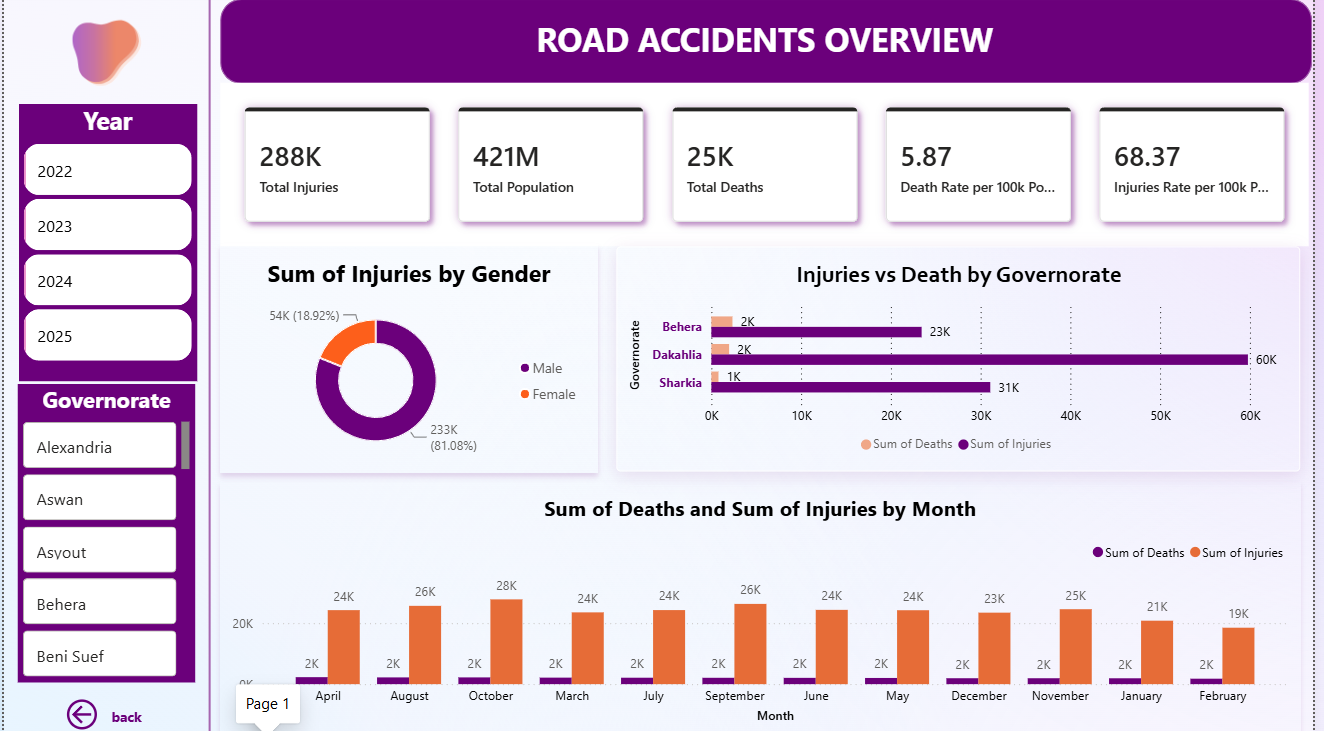

The dashboard page shown, as its layout file describes it:
{"tool":"powerbi","page":{"name":"Page 1","canvas":[1280,720],"ordinal":1},"visuals":[{"type":"shape","box":[211.6,0,1068,83],"z":0},{"type":"textbox","box":[454.9,12.2,578.4,299.6],"z":1000},{"type":"shape","box":[51.4,0,299.6,720.2],"z":2000},{"type":"image","box":[0,0,212,115],"z":3000},{"type":"actionButton","box":[50.1,679.9,100,40],"z":4000},{"type":"actionButton","box":[0,0,201.8,102.7],"z":5000},{"type":"cardVisual","fields":{"Data":["Sum(T_Fact_RoadUser.Injuries)","Sum(T_Fact_Population.Population)","Sum(T_Fact_RoadUser.Deaths)","select1","select"]},"box":[213.1,76.3,1067.6,160.5],"z":6000},{"type":"advancedSlicerVisual","fields":{"Values":["T_Dim_Year.Year"]},"box":[13.5,88,174,271],"z":7000},{"type":"advancedSlicerVisual","fields":{"Values":["T_Dim_Governorate.Governorate"]},"box":[13.5,369.3,173.6,292.3],"z":8000},{"type":"clusteredBarChart","title":"Injuries vs Death by Governorate","fields":{"Category":["T_Dim_Governorate.Governorate"],"Y":["Sum(T_Fact_Monthly.Deaths)","Sum(T_Fact_Monthly.Injuries)"]},"box":[599.2,242.1,668.9,220.1],"z":9000},{"type":"donutChart","fields":{"Category":["T_Dim_Gender.Gender"],"Y":["Sum(T_Fact_Gender.Injuries)"]},"box":[211.6,239.7,369.3,223.8],"z":10000},{"type":"clusteredColumnChart","fields":{"Category":["T_Dim_Month.Month"],"Y":["Sum(T_Fact_Monthly.Deaths)","Sum(T_Fact_Monthly.Injuries)"]},"box":[211.6,472,1056.5,248.2],"z":11000},{"type":"textbox","box":[100.3,688.2,68.5,31.8],"z":12000}]}

Visuals, with their boxes in screenshot pixels (x1, y1, x2, y2), scaled from the page's 1280x720 canvas onto the 1324x731 screenshot:
shape: l=219, t=0, r=1323, b=84
textbox: l=471, t=12, r=1069, b=317
shape: l=53, t=0, r=363, b=730
image: l=0, t=0, r=219, b=117
actionButton: l=52, t=690, r=155, b=730
actionButton: l=0, t=0, r=209, b=104
cardVisual - Sum(T_Fact_RoadUser.Injuries) x Sum(T_Fact_Population.Population): l=220, t=77, r=1323, b=240
advancedSlicerVisual - T_Dim_Year.Year: l=14, t=89, r=194, b=364
advancedSlicerVisual - T_Dim_Governorate.Governorate: l=14, t=375, r=194, b=672
"Injuries vs Death by Governorate" clusteredBarChart: l=620, t=246, r=1312, b=469
donutChart - T_Dim_Gender.Gender x Sum(T_Fact_Gender.Injuries): l=219, t=243, r=601, b=471
clusteredColumnChart - T_Dim_Month.Month x Sum(T_Fact_Monthly.Deaths): l=219, t=479, r=1312, b=730
textbox: l=104, t=699, r=175, b=730
